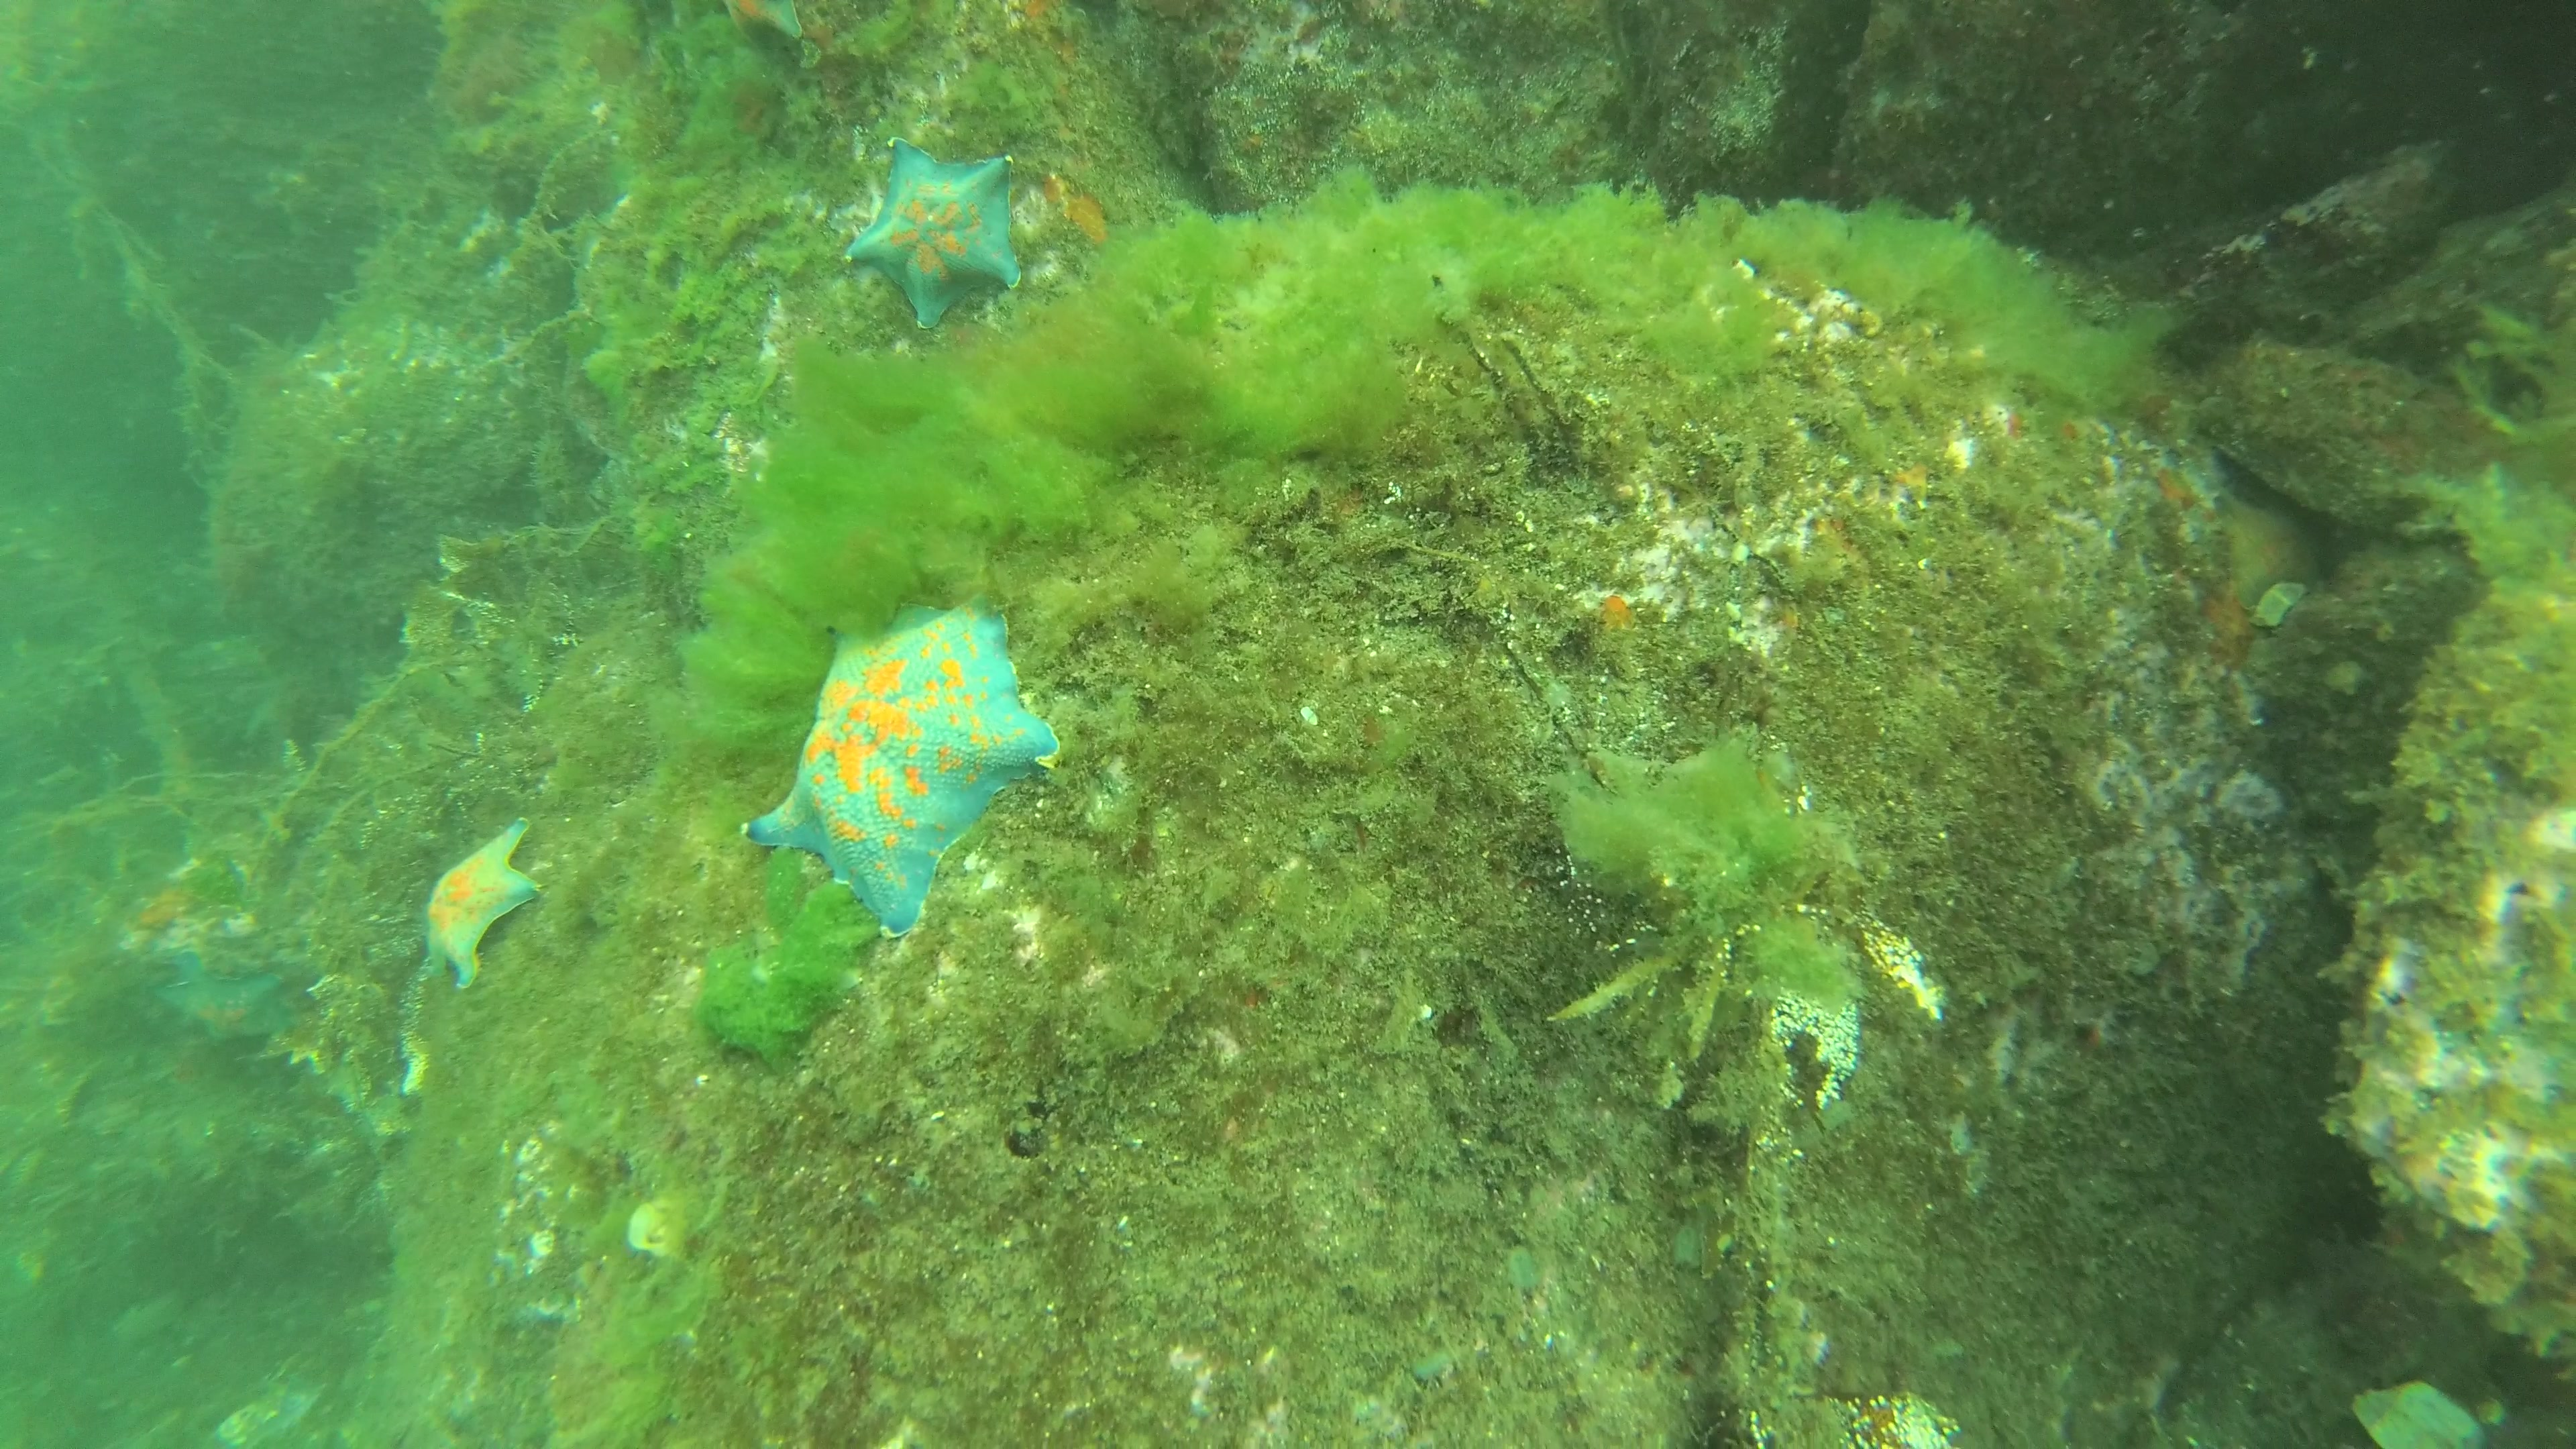starfish: (740, 596, 1067, 948), (842, 133, 1028, 333), (418, 816, 538, 994), (143, 962, 301, 1049)
